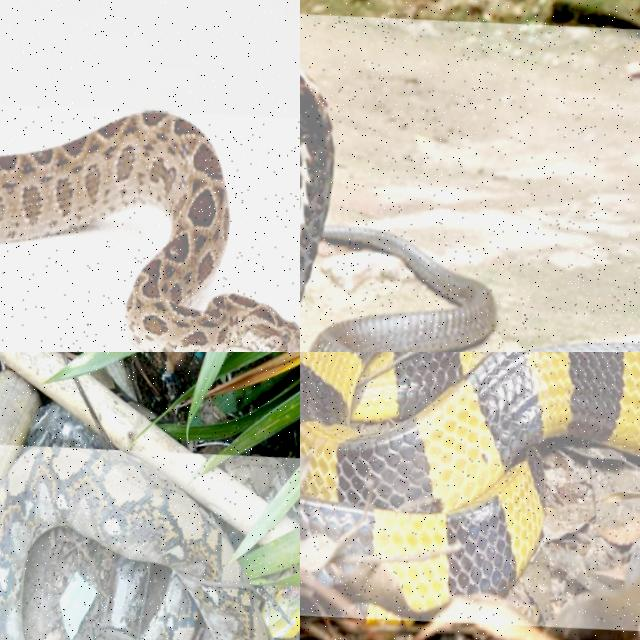Bungarus fasciatus: (300, 352, 639, 613)
Daboia siamensis: (0, 111, 299, 351)
Malayopython reticulatus: (0, 449, 268, 639)
Ophiophagus hannah: (300, 69, 494, 351)
